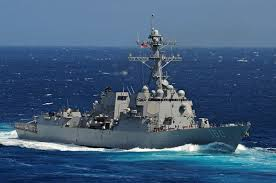tau_muctieu: (18, 37, 251, 157)
